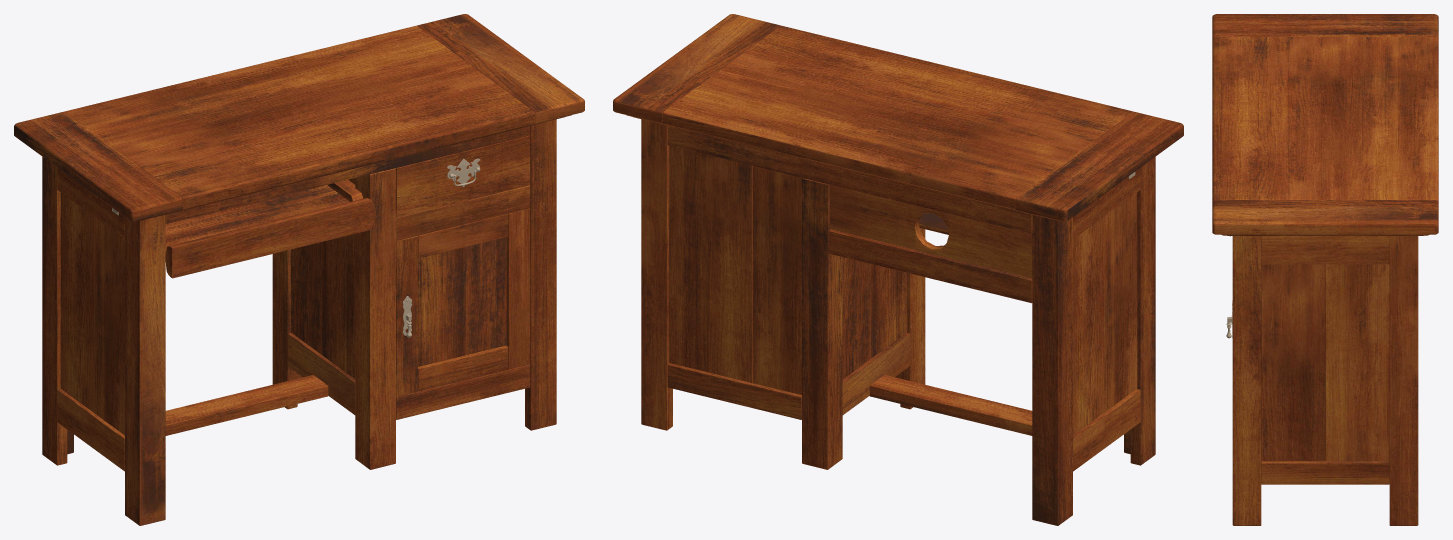
Rendered from desk.gltf.
3 views of the same model, side by side, from view 1: azimuth 30°, elevation 25°; view 2: azimuth 150°, elevation 25°; view 3: azimuth 270°, elevation 25° (orthographic). The views are drawn at different scales.
Visible parts, largest first — view 1: _tableMesh, _handleMesh; view 2: _tableMesh; view 3: _tableMesh.
Boxes of the visible parts, box(x1,y1,x2,y2) form: _tableMesh: box(14, 14, 584, 525); _handleMesh: box(112, 158, 480, 337); _tableMesh: box(613, 14, 1183, 525); _tableMesh: box(1212, 14, 1438, 525).
Bounding box in the file's own units: 1.1 × 0.76 × 0.5002.
Materials: 2 (1 with a texture image).
